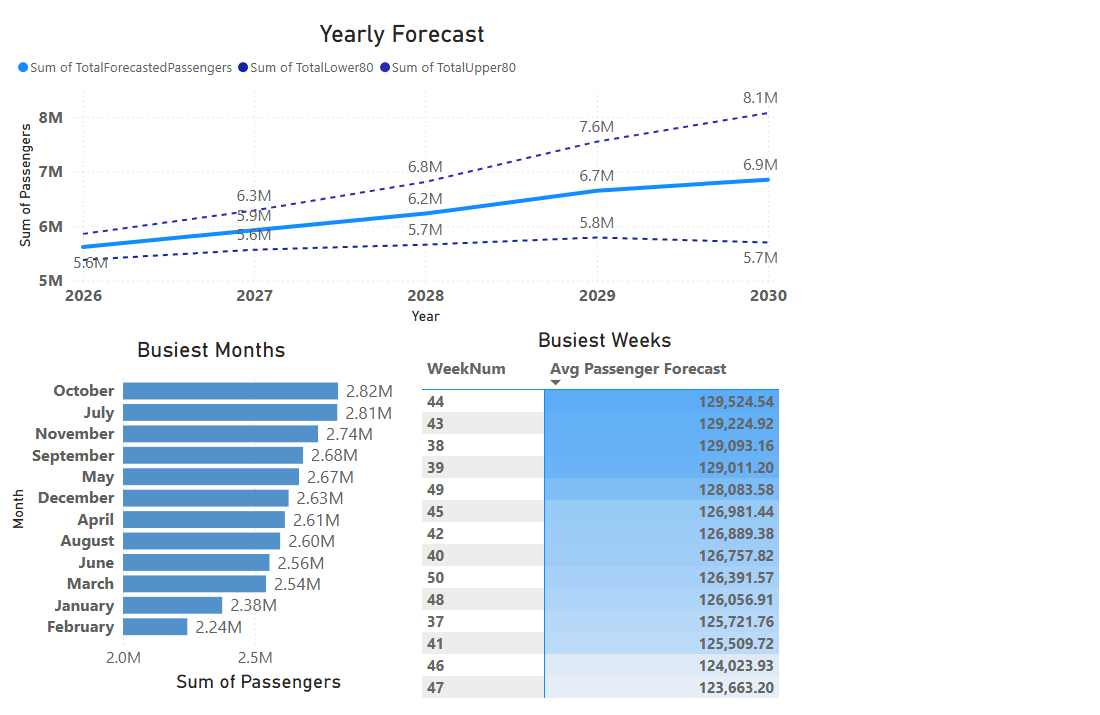

Layout of this report page (visuals, bound fields, positions):
{"tool":"powerbi","page":{"name":"Busiest Times","canvas":[1280,720],"ordinal":1},"visuals":[{"type":"lineChart","title":"Yearly Forecast","fields":{"Y":["Sum(Terminal_Weekly_Totals.TotalForecastedPassengers)","Sum(Terminal_Weekly_Totals.TotalLower80)","Sum(Terminal_Weekly_Totals.TotalUpper80)"],"Category":["Terminal_Weekly_Totals.WeekStartDate.Variation.Date Hierarchy.Year"]},"box":[20,23.3,780,308.3],"z":0},{"type":"clusteredBarChart","title":"Busiest Months","fields":{"Category":["Terminal_Weekly_Totals.WeekStartDate.Variation.Date Hierarchy.Month","Terminal_Weekly_Totals.WeekStartDate.Variation.Date Hierarchy.Day"],"Y":["Sum(Terminal_Weekly_Totals.TotalForecastedPassengers)"]},"box":[13,340,412,360],"z":1000},{"type":"pivotTable","title":"Busiest Weeks ","fields":{"Rows":["Terminal_Weekly_Totals.WeekNum"],"Values":["Avg(Terminal_Weekly_Totals.TotalForecastedPassengers)"]},"box":[425,331,375,389],"z":2000}]}

Visuals, with their boxes on the page's 1280x720 design canvas (x1, y1, x2, y2). These are canvas units, not pixel positions in the 1100x715 screenshot, which may show the page scaled, cropped or inside an application window:
"Yearly Forecast" lineChart: [left=20, top=23, right=800, bottom=332]
"Busiest Months" clusteredBarChart: [left=13, top=340, right=425, bottom=700]
"Busiest Weeks " pivotTable: [left=425, top=331, right=800, bottom=720]
